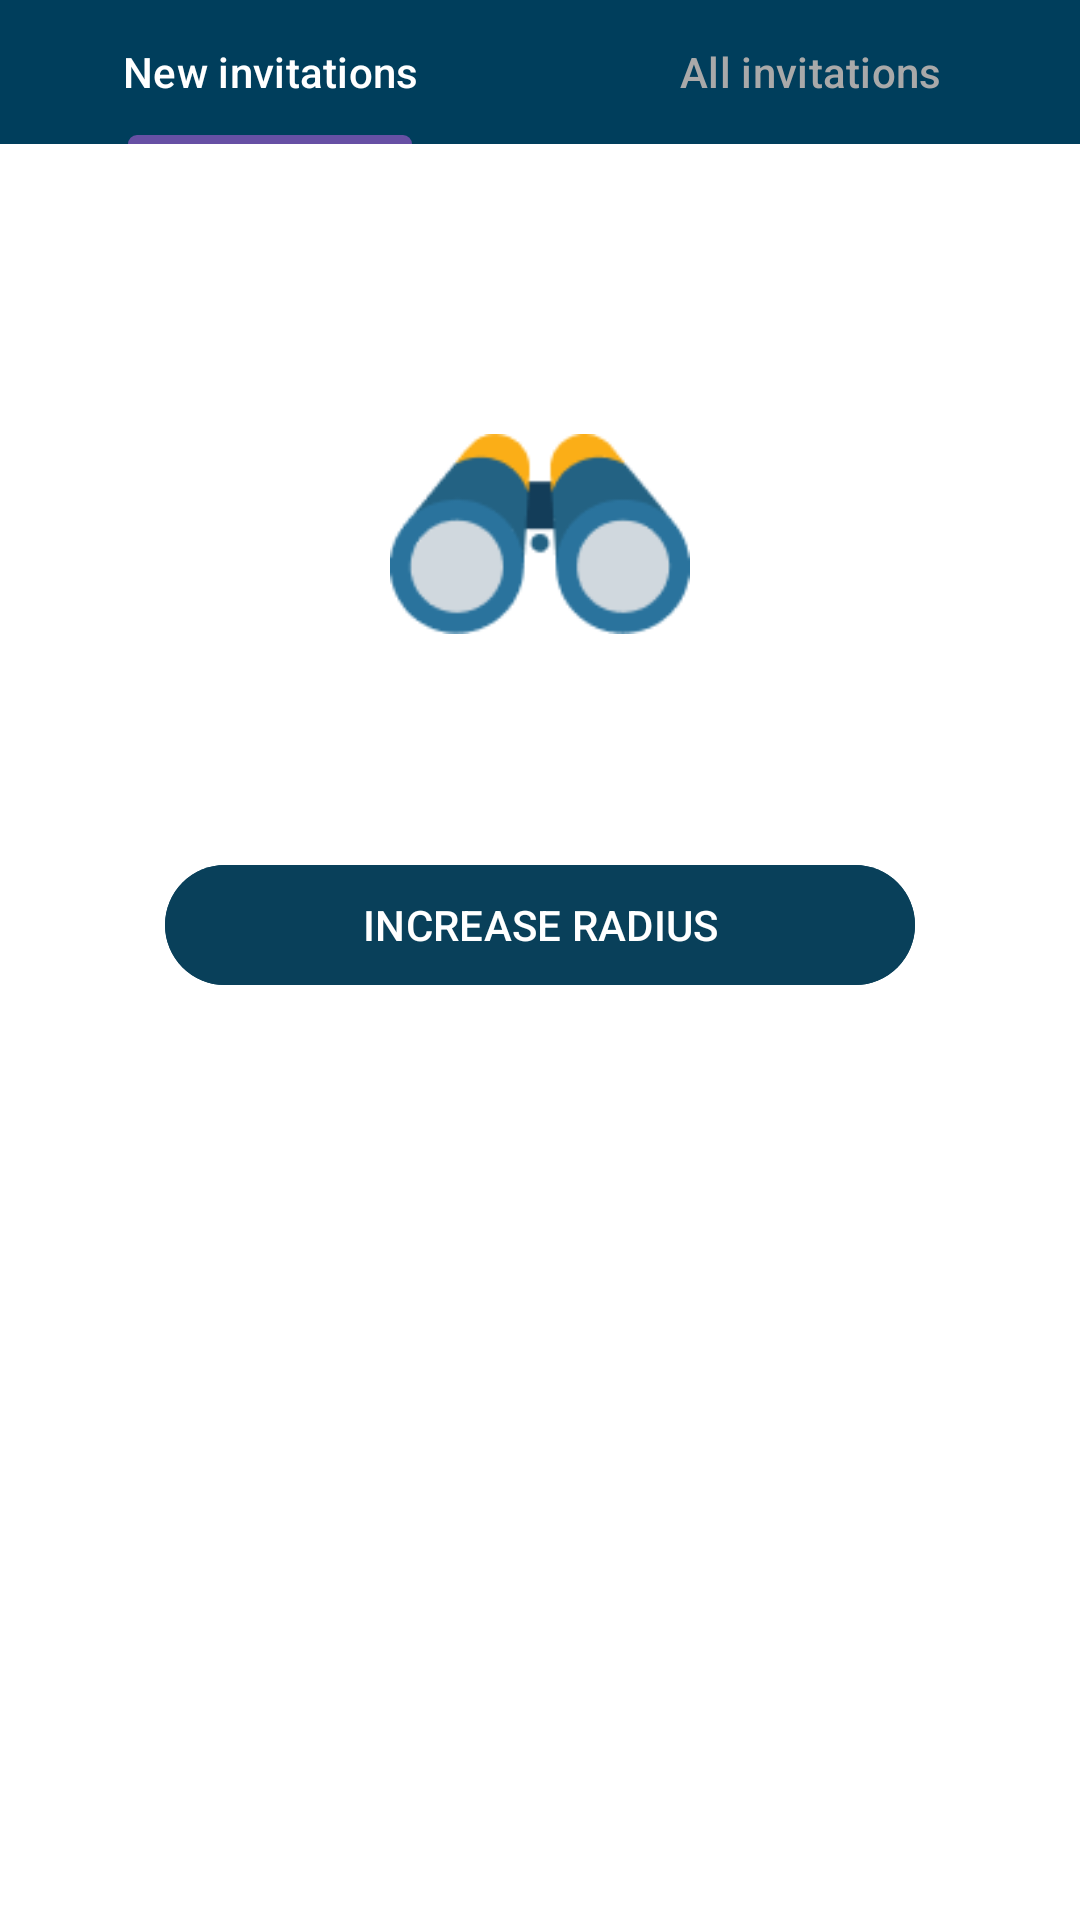

Locate icon controls on the screen. Image size 1080px×1920px, boxes as region(x1, y1, x2, y2).
empty connections: region(390, 434, 690, 634)
